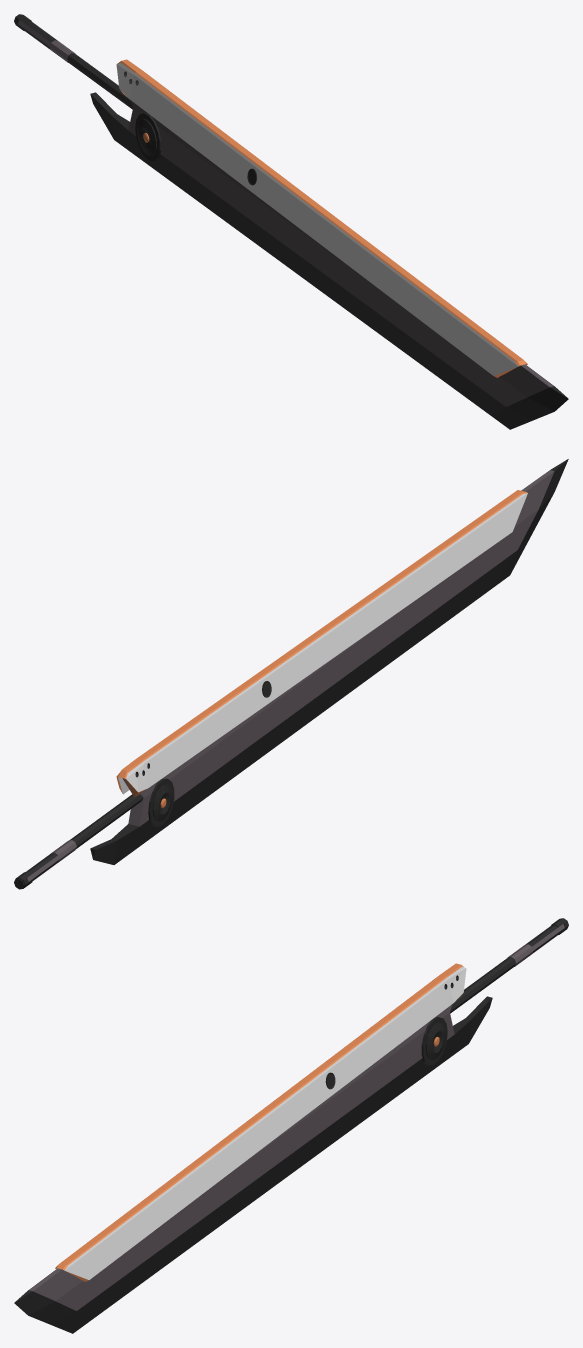
Rendered from ProtoHiraethBCE.fbx.
The picture shows the model from 3 angles, top to bottom: view 1: azimuth 30°, elevation 25°; view 2: azimuth 150°, elevation 25°; view 3: azimuth 330°, elevation 25°; orthographic projection.
Parts seen in each view (by area): view 1: Hiraeth; view 2: Hiraeth; view 3: Hiraeth.
Part boxes in pixels (<box>): Hiraeth: <box>14,14,568,429</box>; Hiraeth: <box>14,459,568,889</box>; Hiraeth: <box>14,918,568,1333</box>.
Size of the model in its own units: 4.1 by 17.18 by 196.
